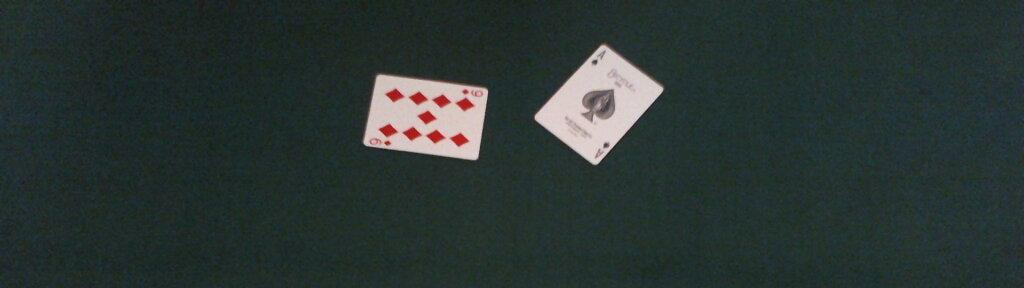ace: (532, 44, 663, 166)
nine: (363, 73, 489, 162)
